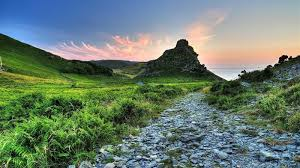mountain: (13, 48, 300, 165)
sky: (9, 4, 300, 54)
